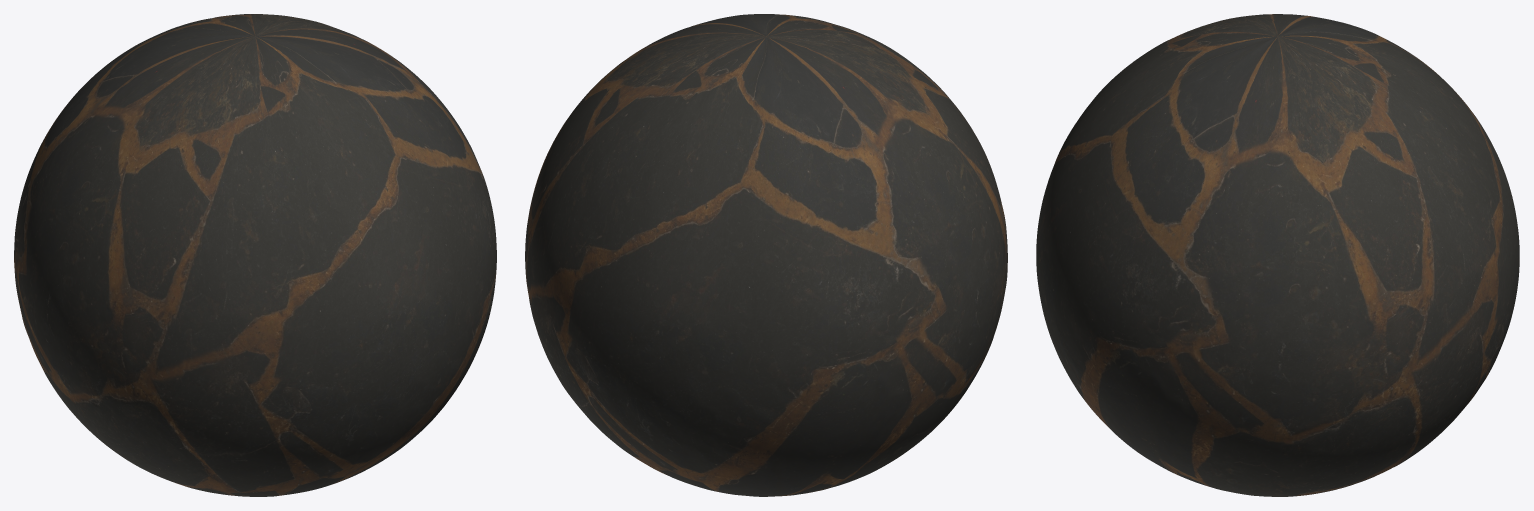
Rendered from slab_tiles_1k.gltf.
3 views of the same model, side by side, from view 1: azimuth 30°, elevation 25°; view 2: azimuth 150°, elevation 25°; view 3: azimuth 270°, elevation 25° (orthographic).
Parts seen in each view (by area): view 1: sphere_gltf; view 2: sphere_gltf; view 3: sphere_gltf.
Boxes of the visible parts, x1,y1,x2,y2 form: sphere_gltf: [14, 14, 496, 496]; sphere_gltf: [525, 14, 1007, 496]; sphere_gltf: [1036, 14, 1519, 496].
Size of the model in its own units: 2.38 by 2.39 by 2.39.
Materials: 1 (1 with a texture image).
